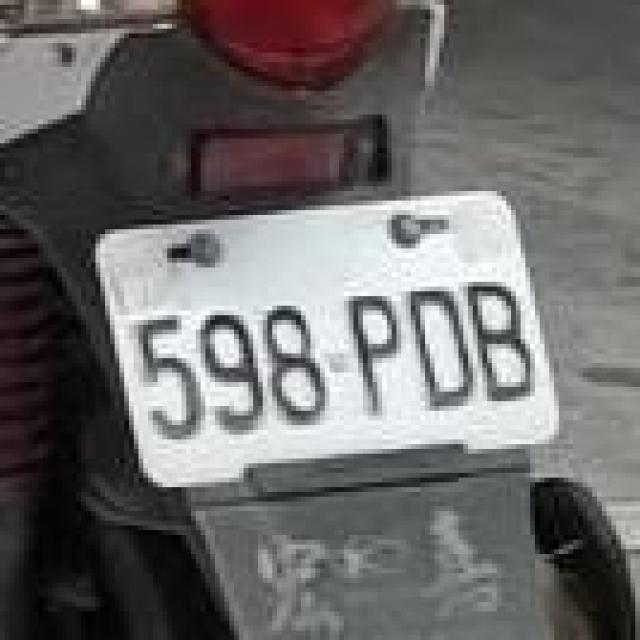W: (86, 167, 568, 487)
